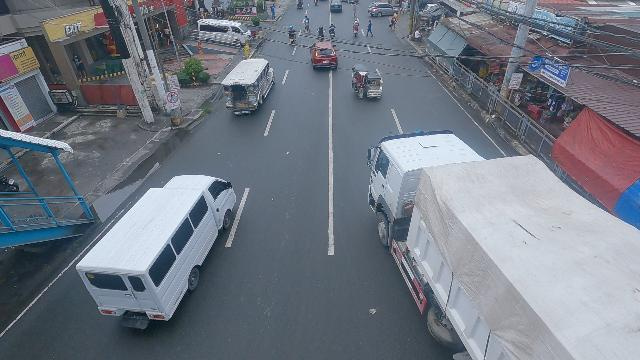car: (310, 41, 339, 71), (368, 2, 399, 17), (330, 0, 343, 12)
jeepney: (221, 57, 275, 117)
motorcycle: (288, 25, 296, 43), (328, 21, 336, 38), (352, 20, 359, 36), (318, 25, 324, 40), (314, 0, 318, 6)
truck: (365, 129, 640, 360)
van: (74, 172, 236, 326), (197, 18, 253, 48)
